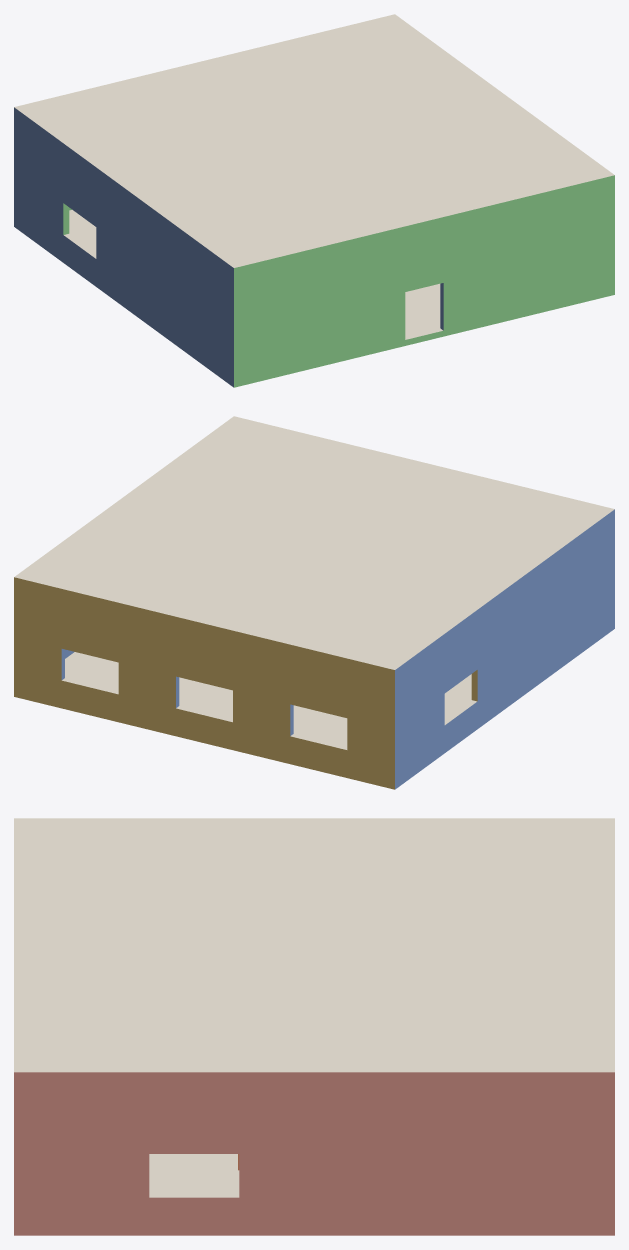
Rendered from room.glb.
The picture shows the model from 3 angles, top to bottom: view 1: azimuth 30°, elevation 25°; view 2: azimuth 150°, elevation 25°; view 3: azimuth 270°, elevation 25°; orthographic projection. The views are drawn at different scales.
Visible parts, largest first — view 1: floor, +z, -x; view 2: floor, -z, -x; view 3: floor, +x.
Boxes of the visible parts, x1,y1,x2,y2 form: floor: (14,14,614,339); +z: (63,175,614,387); -x: (14,107,443,387); floor: (14,416,614,749); -z: (14,577,477,789); -x: (61,509,614,789); floor: (14,818,614,1197); +x: (14,1072,614,1235).
Size of the model in its own units: 20 by 6 by 20.
